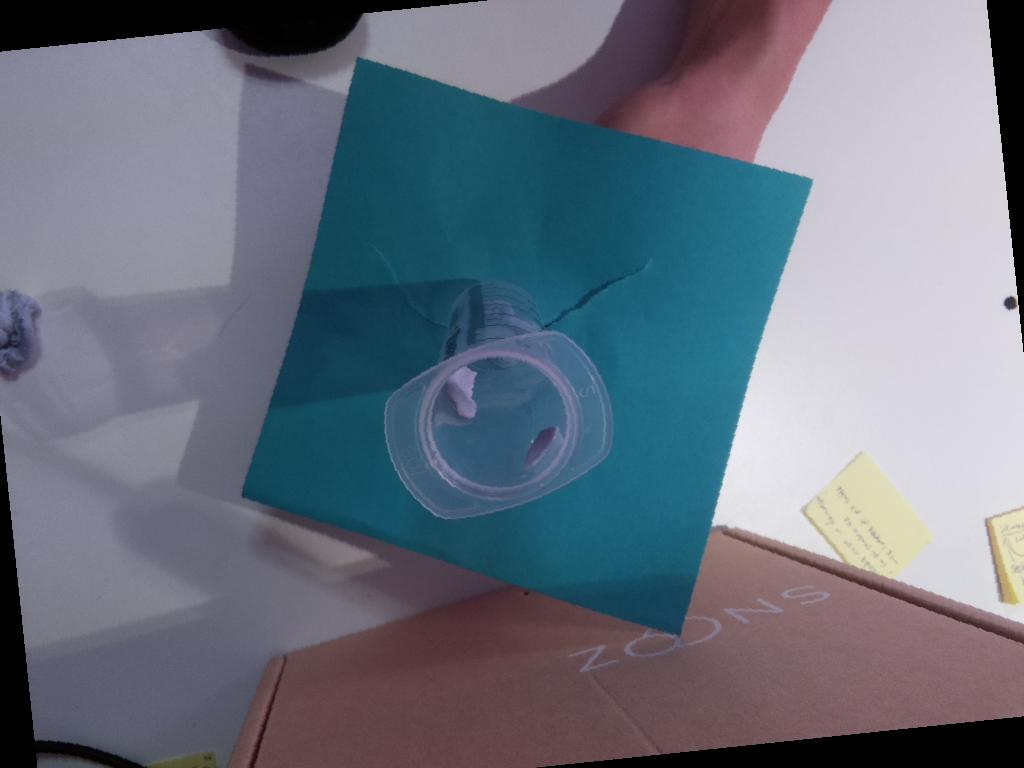dirty: (384, 330, 615, 518)
